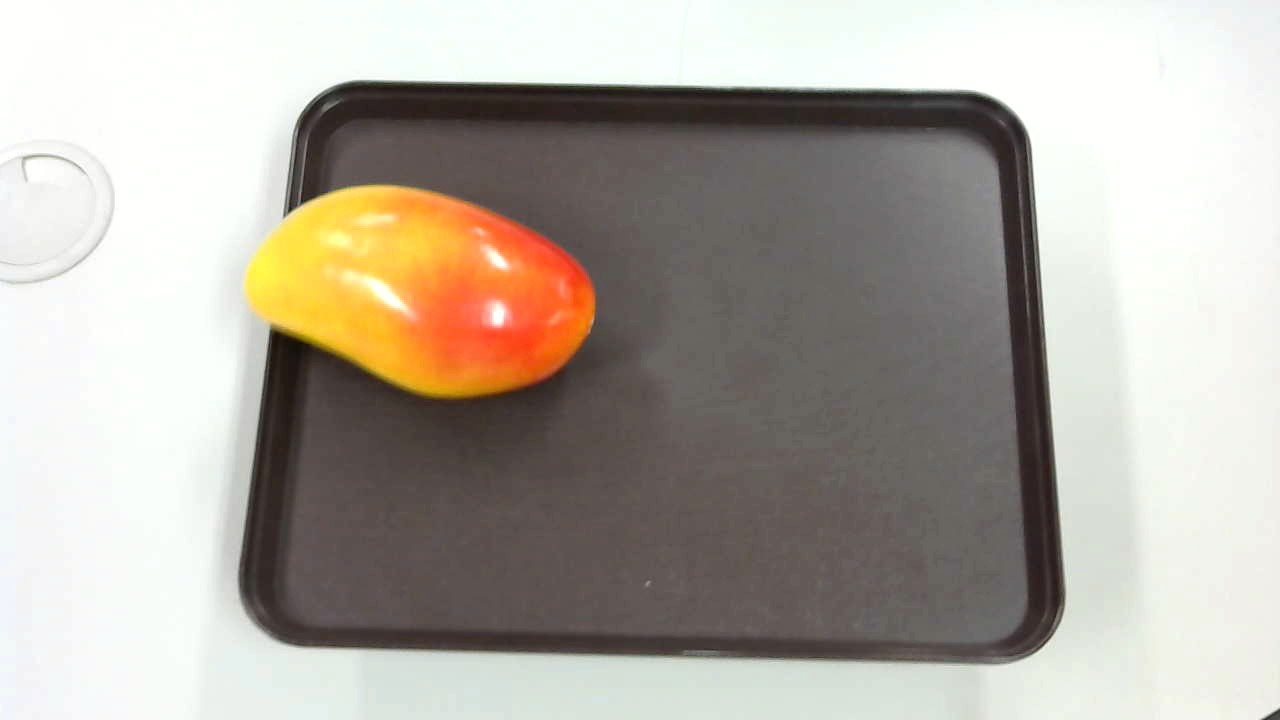red mango: (232, 178, 613, 420)
